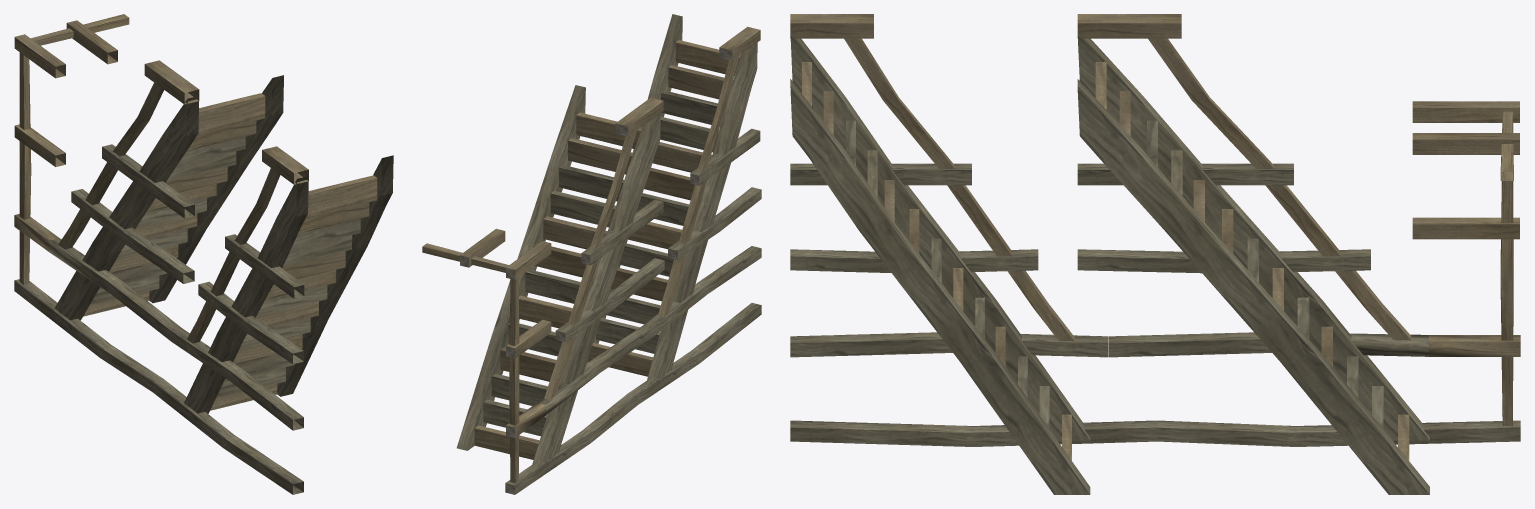
The model's file is Pirate_Bar_Stairs_C.fbx.
3 views of the same model, side by side, from view 1: azimuth 30°, elevation 25°; view 2: azimuth 150°, elevation 25°; view 3: azimuth 270°, elevation 25° (orthographic). The views are drawn at different scales.
Visible parts, largest first — view 1: Pirate_Bar_Stairs_C; view 2: Pirate_Bar_Stairs_C; view 3: Pirate_Bar_Stairs_C.
Part boxes in pixels (x1,y1,x2,y2): Pirate_Bar_Stairs_C: [14, 14, 393, 494]; Pirate_Bar_Stairs_C: [422, 14, 761, 494]; Pirate_Bar_Stairs_C: [790, 14, 1520, 494].
Bounding box in the file's own units: 2.24 × 6.5 × 10.08.
